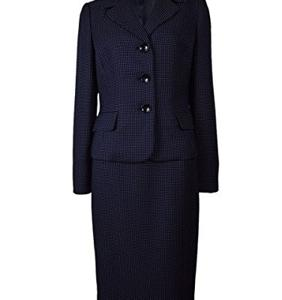F_W_suit jacket: (72, 1, 219, 180)
